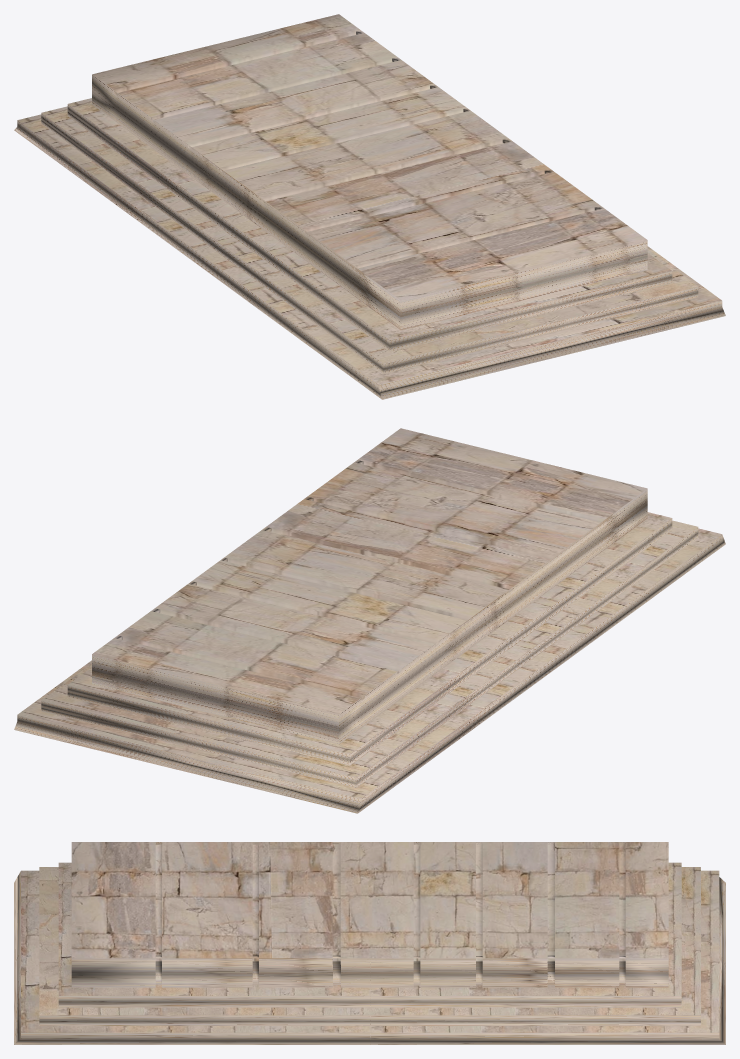
File: Ruin roof2.fbx
3 renders of one model, top to bottom at view 1: azimuth 30°, elevation 25°; view 2: azimuth 150°, elevation 25°; view 3: azimuth 270°, elevation 25°, orthographic. The views are drawn at different scales.
Parts seen in each view (by area): view 1: polySurface15; view 2: polySurface15; view 3: polySurface15.
Boxes of the visible parts, box(x1,y1,x2,y2) form: polySurface15: box(14, 14, 725, 399); polySurface15: box(14, 428, 725, 813); polySurface15: box(14, 842, 725, 1044).
Bounding box in the file's own units: 9.47 × 1.73 × 17.57.
3 materials, 3 textured.
